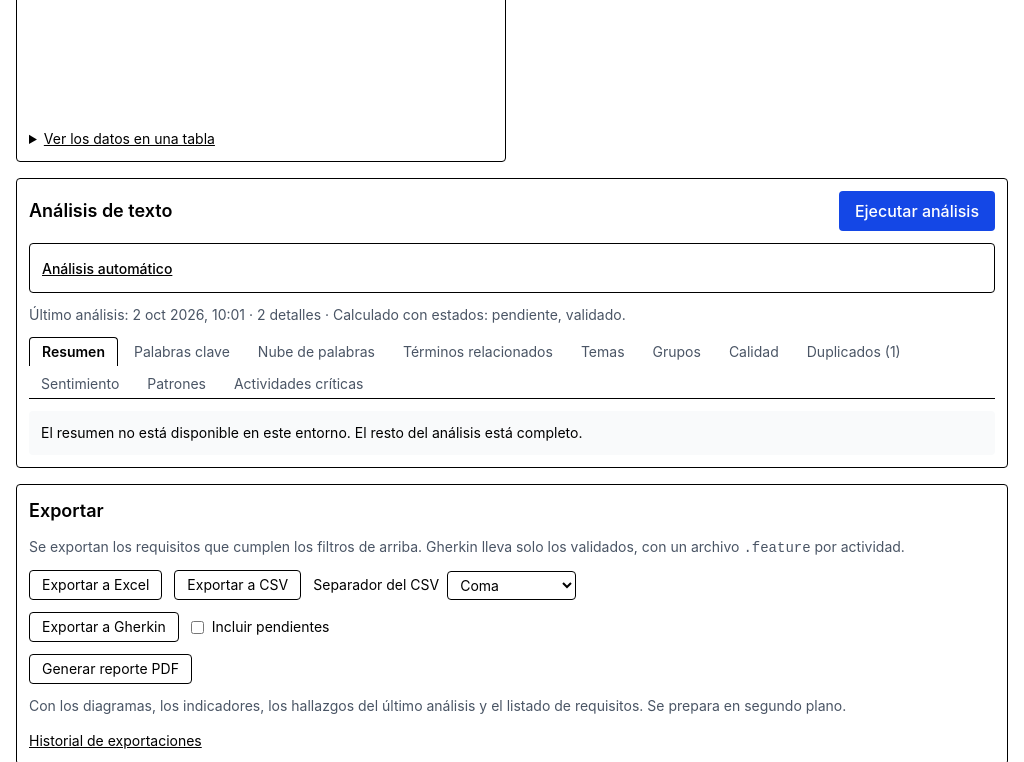
it: actividades críticas › calientes y frías, cada una con su motivo
(page scrolled)
Click the tab "Actividades críticas" at (299, 384), box [222,370,376,398]
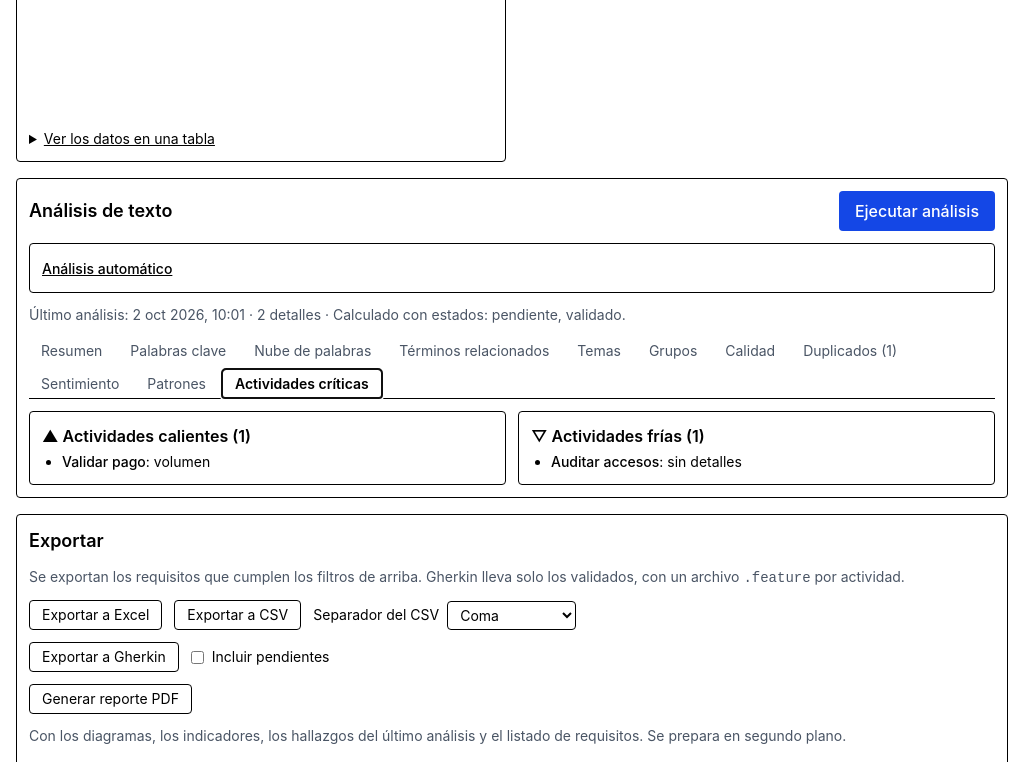
expect the heading "▲ Actividades calientes (1)" is shown: met, box [42,426,251,446]
expect the list item "Validar pago: volumen" is shown: met, box [62,453,210,470]
expect the list item "Auditar accesos: sin detalles" is shown: met, box [551,453,742,470]
